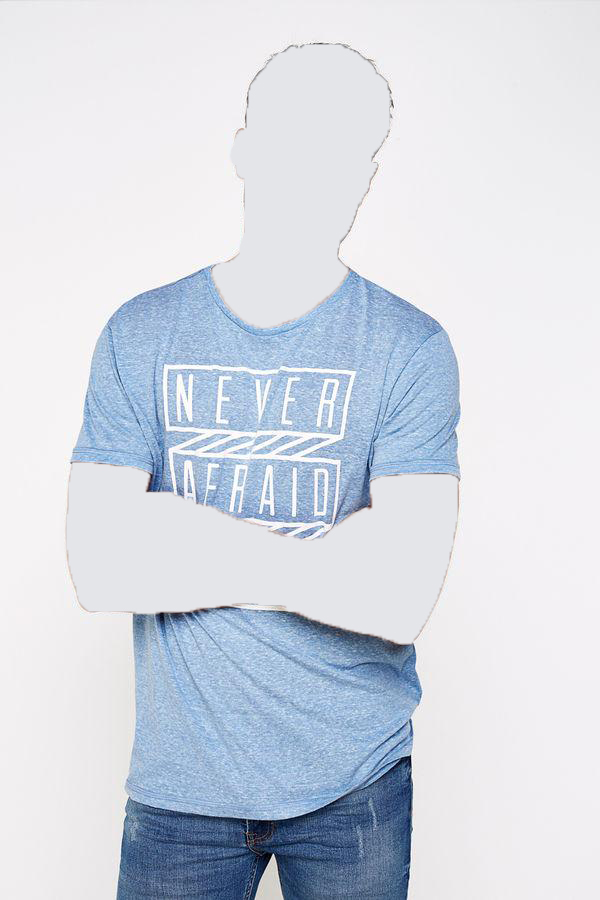teeshirt: (67, 267, 468, 815)
